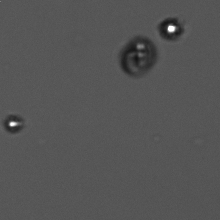Dead Cell: (120, 34, 159, 78)
Living Cell: (159, 15, 184, 41), (3, 115, 27, 134)
